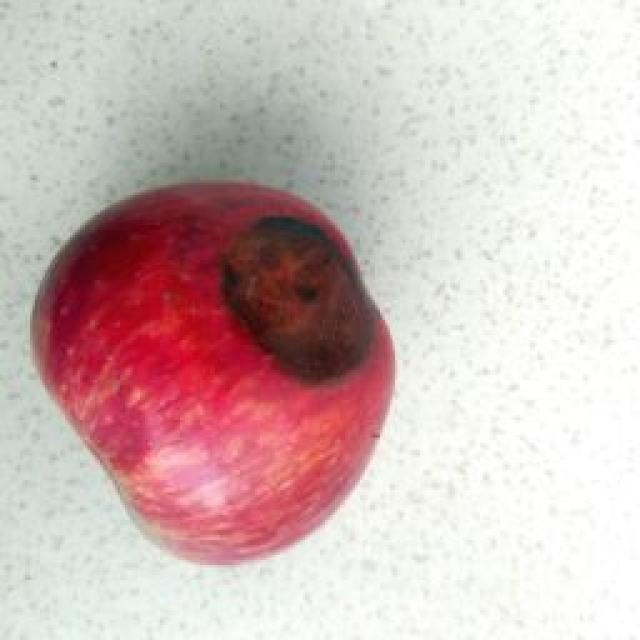Bad_Apple: (35, 182, 392, 562)
